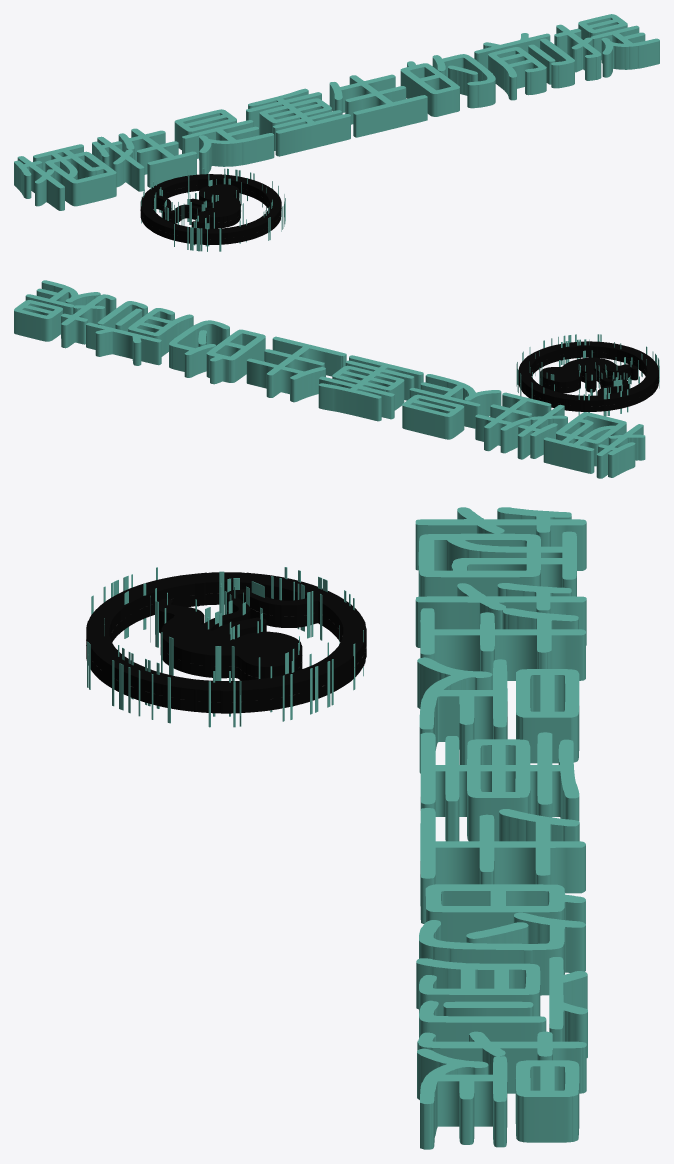
Rendered from four.obj.
3 views of the same model, one above another, from view 1: azimuth 30°, elevation 25°; view 2: azimuth 150°, elevation 25°; view 3: azimuth 270°, elevation 25° (orthographic). The views are drawn at different scales.
Visible parts, largest first — view 1: path1, path0; view 2: path1, path0; view 3: path1, path0.
Part boxes in pixels (x1,y1,x2,y2): path1: (14,14,659,251); path0: (140,174,281,244); path1: (14,280,659,478); path0: (518,341,658,411); path1: (87,507,587,1149); path0: (86,572,366,713).
Bounding box in the file's own units: 1.07 × 0.038 × 0.3793.
